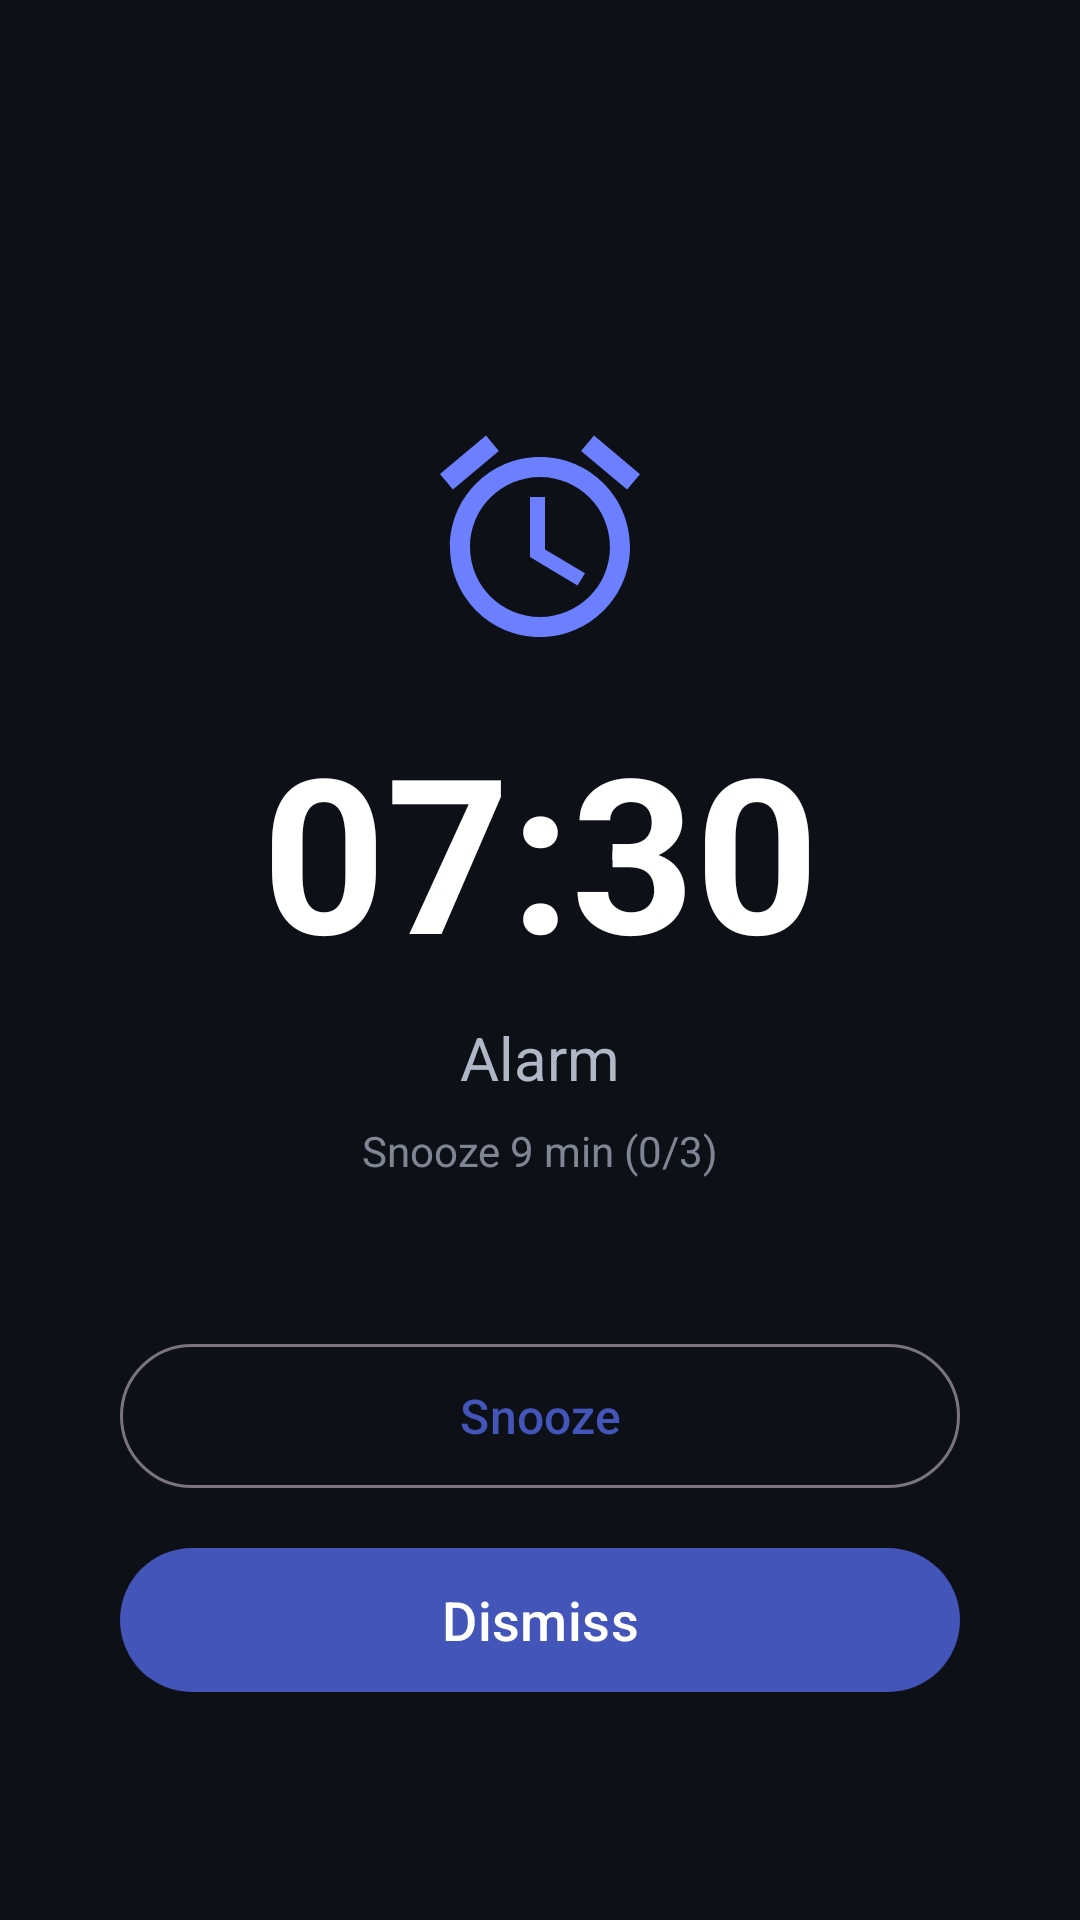

Named icons in this screenshot (1080px×1920px) and their centers, point (x, y):
alarm: point (540, 536)
